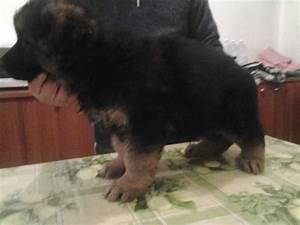dog: (0, 0, 266, 209)
